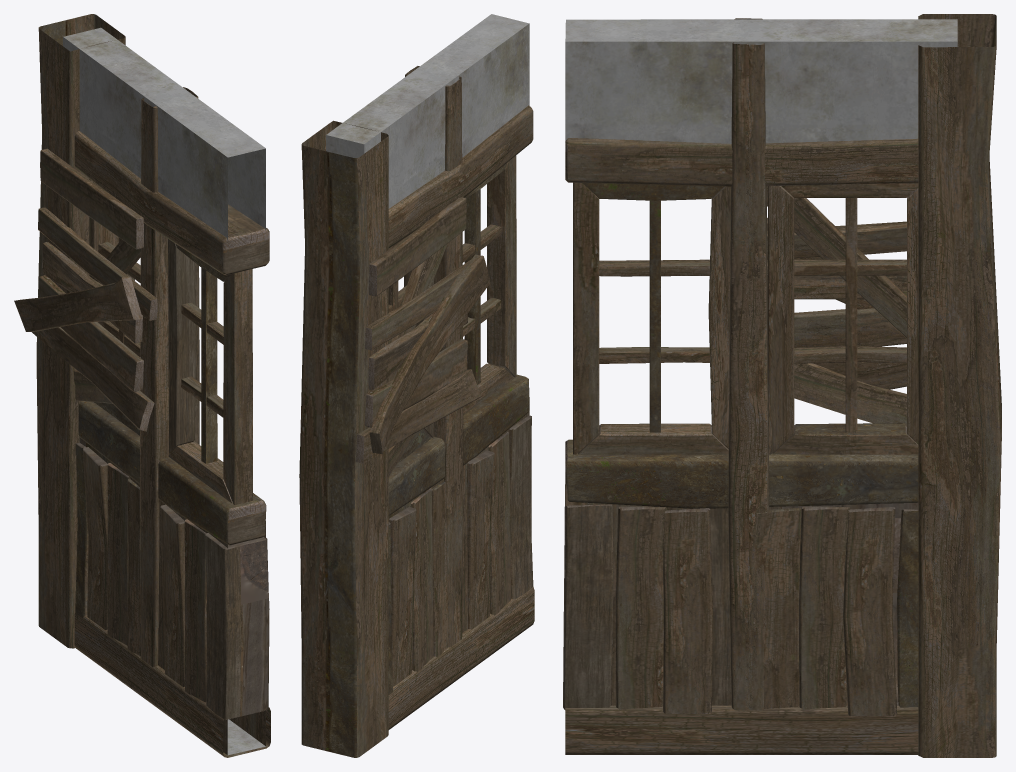
The model's file is SM_WallMedium11.fbx.
The picture shows the model from 3 angles, left to right: view 1: azimuth 30°, elevation 25°; view 2: azimuth 150°, elevation 25°; view 3: azimuth 270°, elevation 25°; orthographic projection. The views are drawn at different scales.
Visible parts, largest first — view 1: SM_WallMedium11_LOD0; view 2: SM_WallMedium11_LOD0; view 3: SM_WallMedium11_LOD0.
Part boxes in pixels (bbox=[...]): SM_WallMedium11_LOD0: bbox=[14, 14, 270, 757]; SM_WallMedium11_LOD0: bbox=[299, 14, 534, 757]; SM_WallMedium11_LOD0: bbox=[563, 14, 1001, 757].
Size of the model in its own units: 41.84 by 168 by 301.
